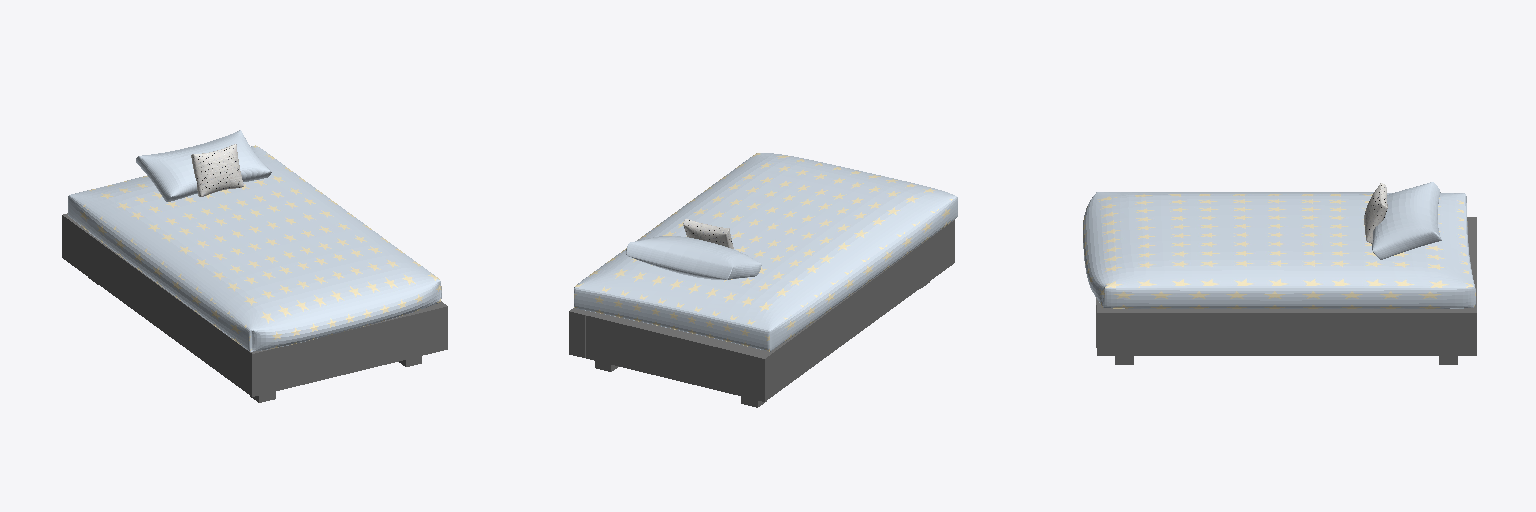
3 views of the same model, side by side, from view 1: azimuth 30°, elevation 25°; view 2: azimuth 150°, elevation 25°; view 3: azimuth 270°, elevation 25° (orthographic).
Visible parts, largest first — view 1: Box26, Box032, Box033, Box31, Box30, Box034; view 2: Box26, Box032, Box035, Box31, Box30, Box034; view 3: Box26, Box034, Box31, Box30.
Part boxes in pixels (x1,y1,x2,y2): Box26: (68, 145, 441, 351); Box032: (62, 213, 266, 396); Box033: (267, 307, 431, 393); Box31: (136, 130, 271, 201); Box30: (191, 144, 243, 196); Box034: (428, 301, 447, 352); Box26: (574, 153, 957, 351); Box032: (748, 220, 954, 401); Box035: (586, 312, 757, 397); Box31: (626, 236, 761, 279); Box30: (683, 219, 733, 248); Box034: (569, 308, 589, 357); Box26: (1083, 192, 1475, 308); Box034: (1097, 305, 1476, 355); Box31: (1372, 182, 1441, 259); Box30: (1364, 183, 1387, 243).
Bounding box in the file's own units: 1218 × 783 × 2072.
Materials: 4 (3 with a texture image).